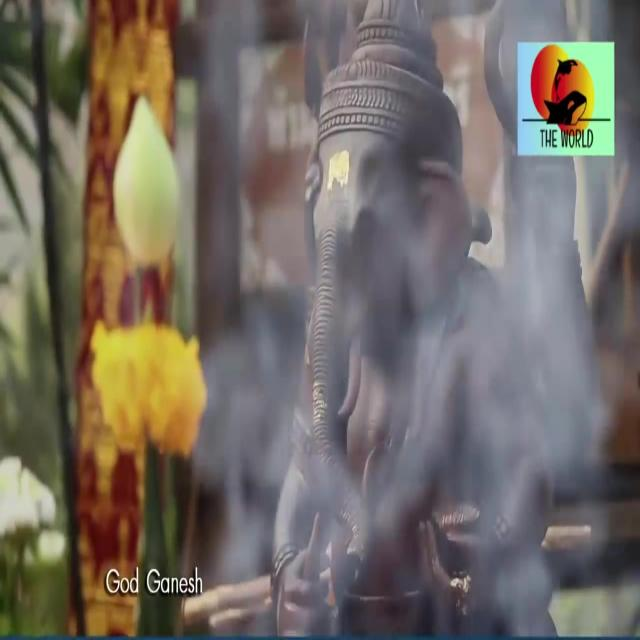Elephant: (303, 29, 507, 608)
